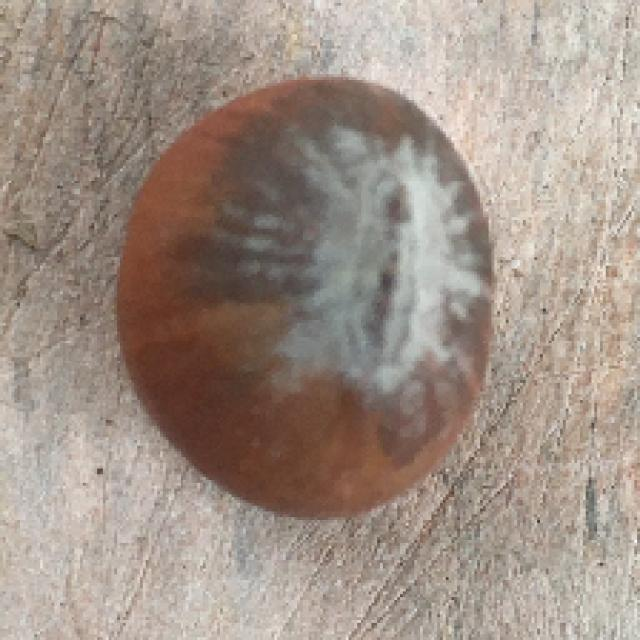qualityHazelnut: (132, 70, 516, 512)
